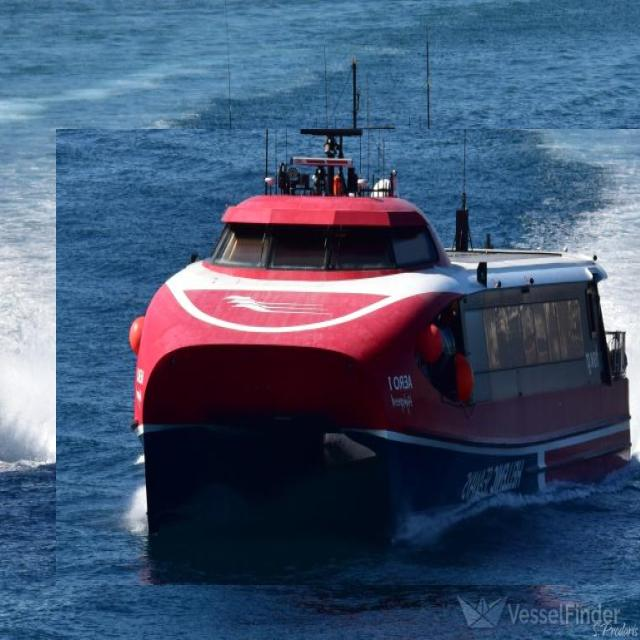Fishing Boat: (56, 129, 640, 585)
